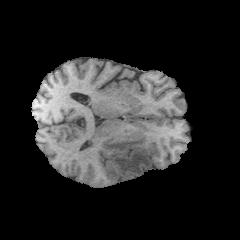glioma: (101, 137, 148, 175)
